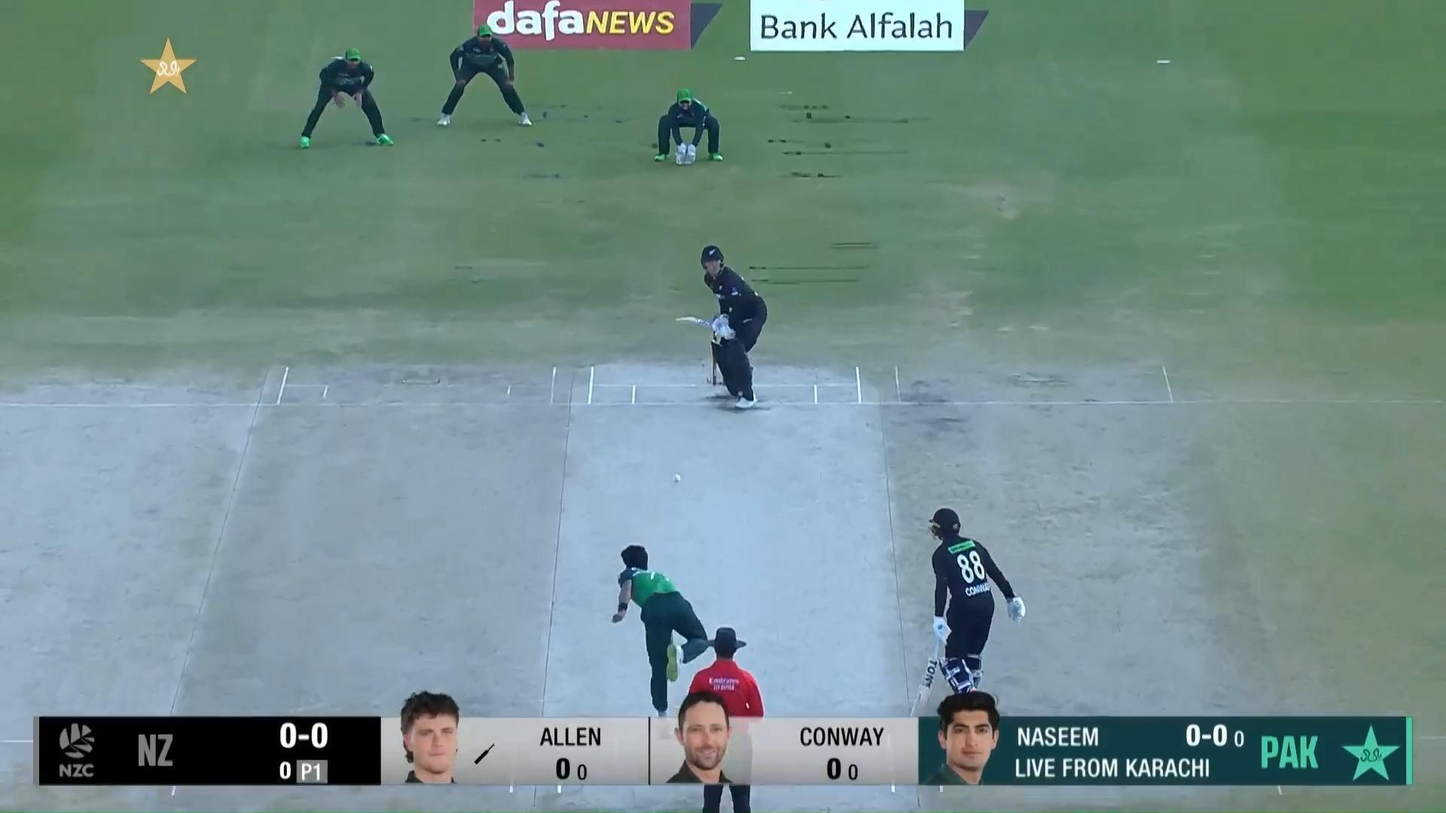BM 1: (673, 243, 768, 411)
BO: (610, 541, 710, 718)
